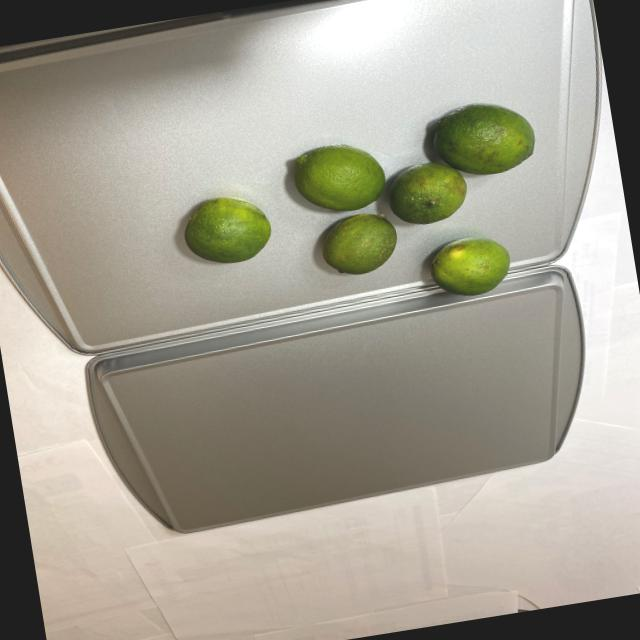lemon: (166, 89, 564, 340)
